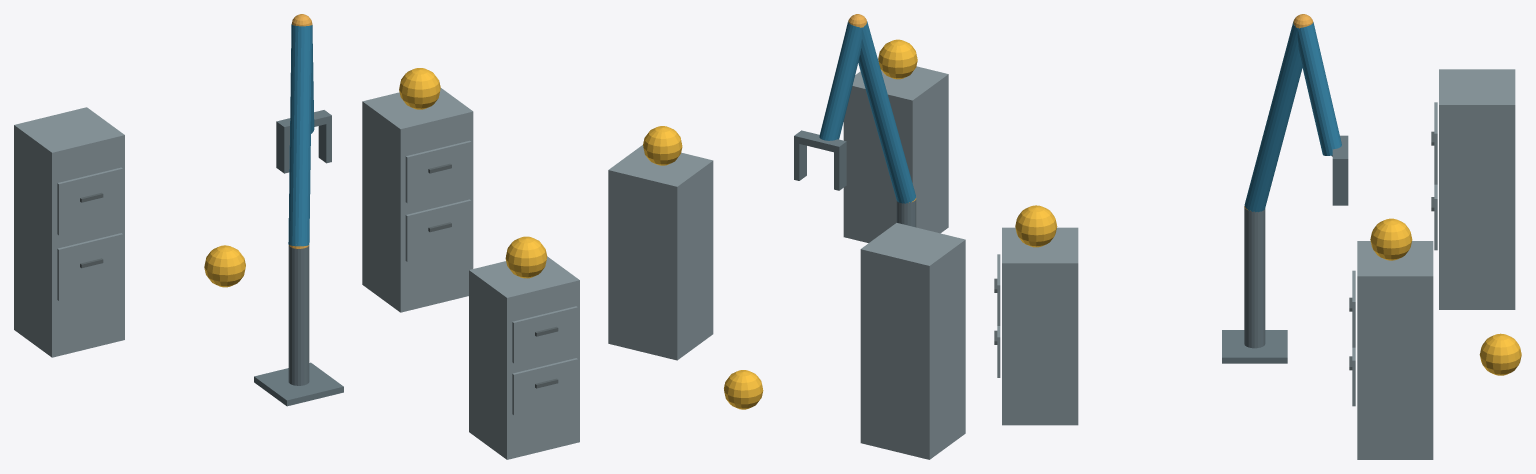
The picture shows the model from 3 angles, left to right: view 1: azimuth 30°, elevation 25°; view 2: azimuth 150°, elevation 25°; view 3: azimuth 270°, elevation 25°; orthographic projection. The views are drawn at different scales.
Parts seen in each view (by area): view 1: cabinet_3 body, cabinet_2 body, cabinet_1 body, moving link 1, cabinet_3 drawer front, cabinet_3 drawer front.001, cabinet_2 drawer front.001, cabinet_2 drawer front, fixed post, cabinet_1 drawer front.001, cabinet_1 drawer front, pedestal (+3 smaller); view 2: cabinet_3 body, cabinet_2 body, cabinet_1 body, moving link 1, moving link 2, released ball_1, released ball_2, ball ball_3, gripper bridge, fixed post, gripper finger -1, gripper finger 1; view 3: cabinet_3 body, cabinet_2 body, cabinet_1 body, moving link 1, fixed post, moving link 2, pedestal, released ball_1, released ball_2, ball ball_3, gripper finger 1.
Part boxes in pixels (x1,y1,x2,y2): cabinet_3 body: [14, 107, 124, 357]; cabinet_2 body: [362, 88, 473, 312]; cabinet_1 body: [469, 256, 579, 459]; moving link 1: [288, 24, 312, 246]; cabinet_3 drawer front: [57, 233, 122, 300]; cabinet_3 drawer front.001: [57, 167, 122, 235]; cabinet_2 drawer front.001: [405, 140, 471, 203]; cabinet_2 drawer front: [405, 199, 471, 261]; fixed post: [288, 245, 309, 385]; cabinet_1 drawer front.001: [512, 306, 577, 363]; cabinet_1 drawer front: [512, 358, 577, 414]; pedestal: [254, 362, 343, 406]; cabinet_3 body: [860, 223, 965, 459]; cabinet_2 body: [608, 145, 713, 360]; cabinet_1 body: [843, 58, 948, 242]; moving link 1: [858, 21, 915, 203]; moving link 2: [819, 21, 862, 140]; released ball_1: [878, 39, 917, 79]; released ball_2: [643, 126, 682, 165]; ball ball_3: [724, 370, 763, 409]; gripper bridge: [794, 130, 846, 153]; fixed post: [896, 199, 916, 227]; gripper finger -1: [834, 148, 846, 190]; gripper finger 1: [794, 142, 806, 180]; cabinet_3 body: [1439, 69, 1515, 309]; cabinet_2 body: [1357, 241, 1433, 459]; cabinet_1 body: [1002, 227, 1078, 425]; moving link 1: [1244, 22, 1302, 212]; fixed post: [1244, 207, 1265, 348]; moving link 2: [1297, 22, 1341, 155]; pedestal: [1222, 330, 1287, 363]; released ball_1: [1015, 205, 1057, 247]; released ball_2: [1370, 218, 1412, 260]; ball ball_3: [1479, 333, 1521, 375]; gripper finger 1: [1332, 166, 1348, 205].
Size of the model in its own units: 1.67 by 1.46 by 2.01.
